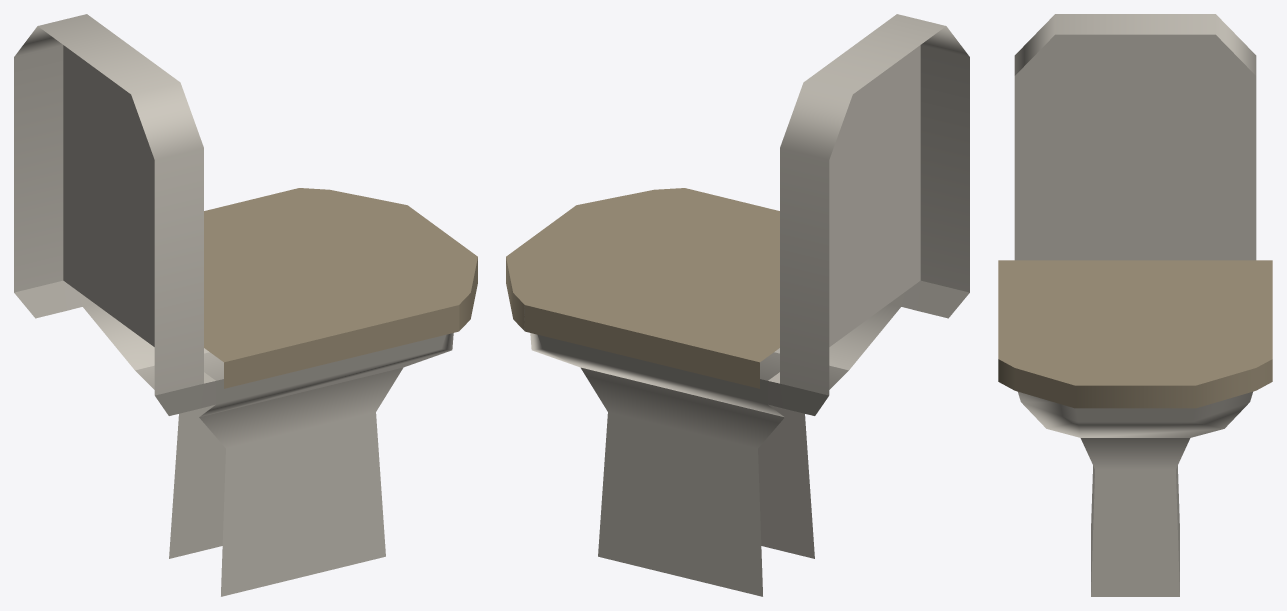
The model's file is Toilet.fbx.
3 views of the same model, side by side, from view 1: azimuth 30°, elevation 25°; view 2: azimuth 150°, elevation 25°; view 3: azimuth 270°, elevation 25° (orthographic). The views are drawn at different scales.
Parts seen in each view (by area): view 1: Toilet; view 2: Toilet; view 3: Toilet.
Part boxes in pixels (x1,y1,x2,y2): Toilet: [14, 14, 477, 596]; Toilet: [506, 14, 969, 596]; Toilet: [998, 14, 1272, 596].
Bounding box in the file's own units: 56.46 × 81.98 × 43.64.
Materials: 1 (1 with a texture image).
